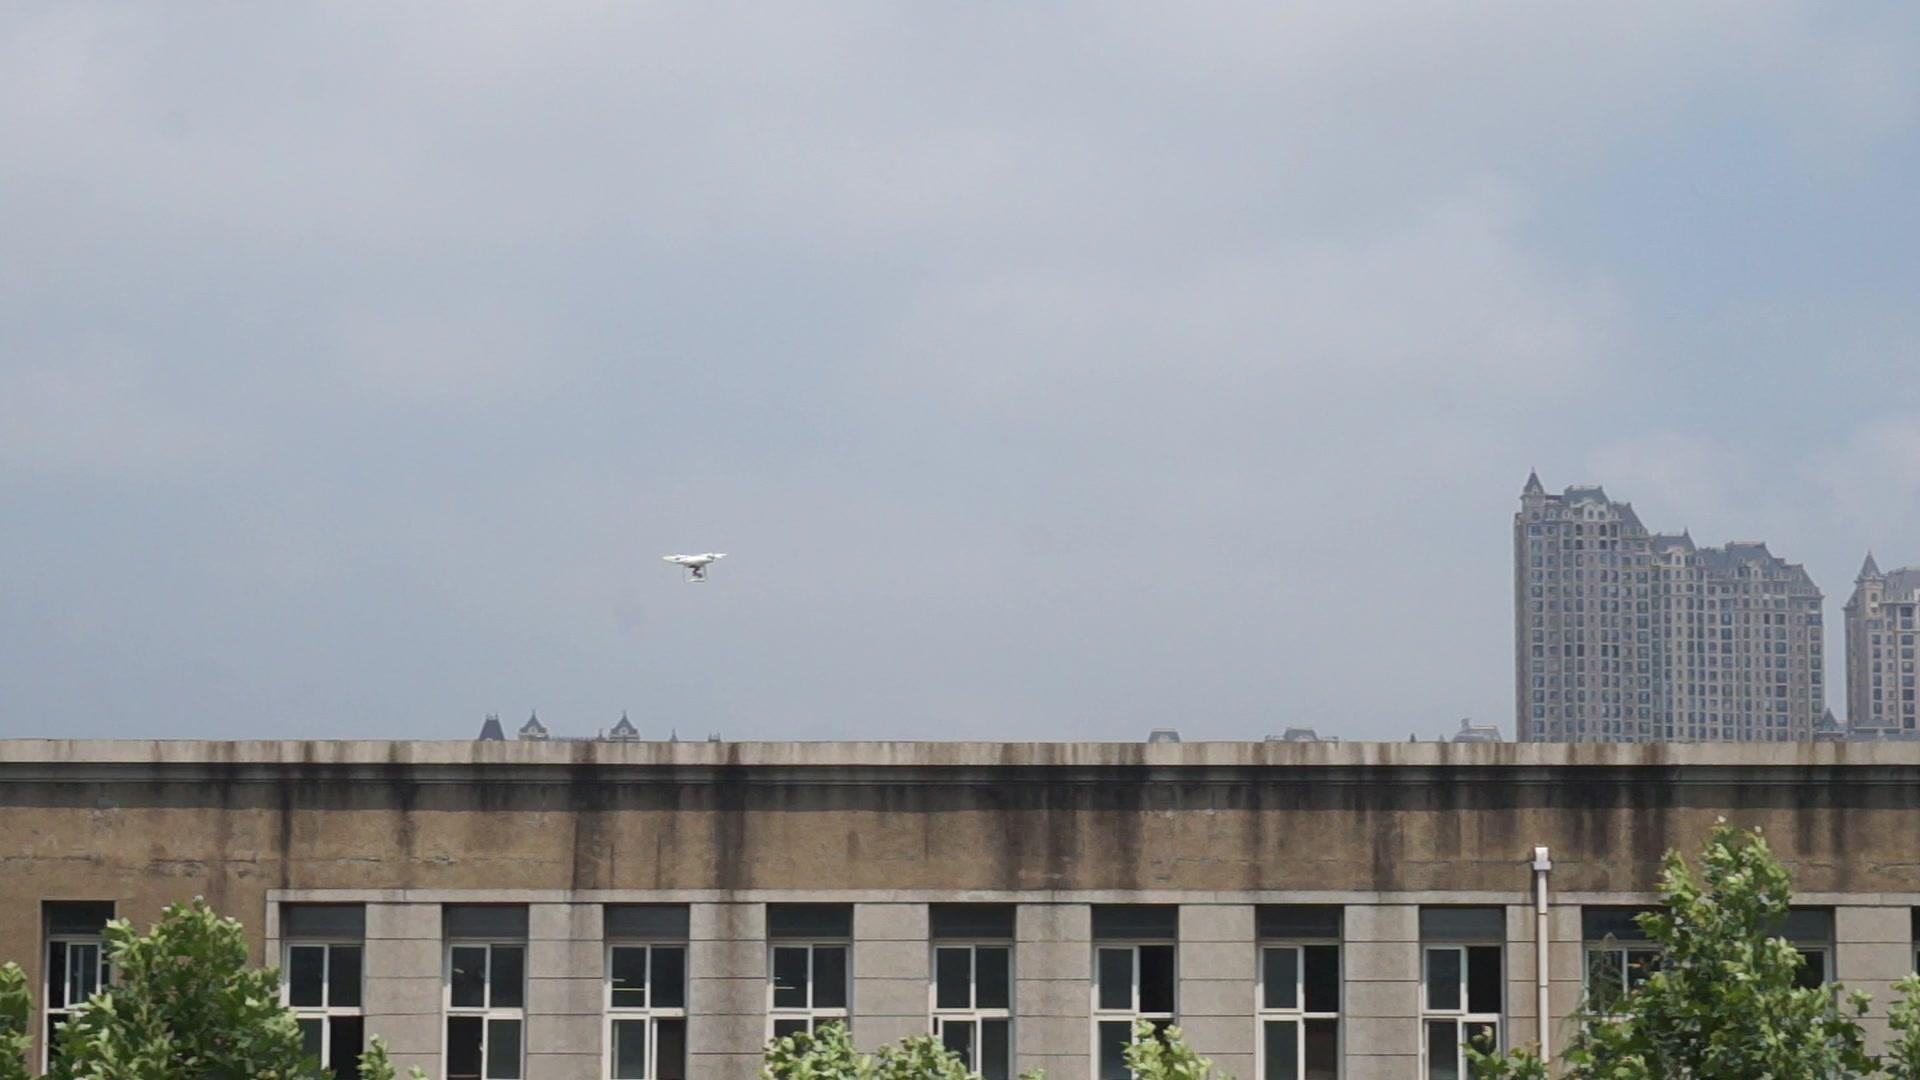UAV: (662, 553, 731, 584)
